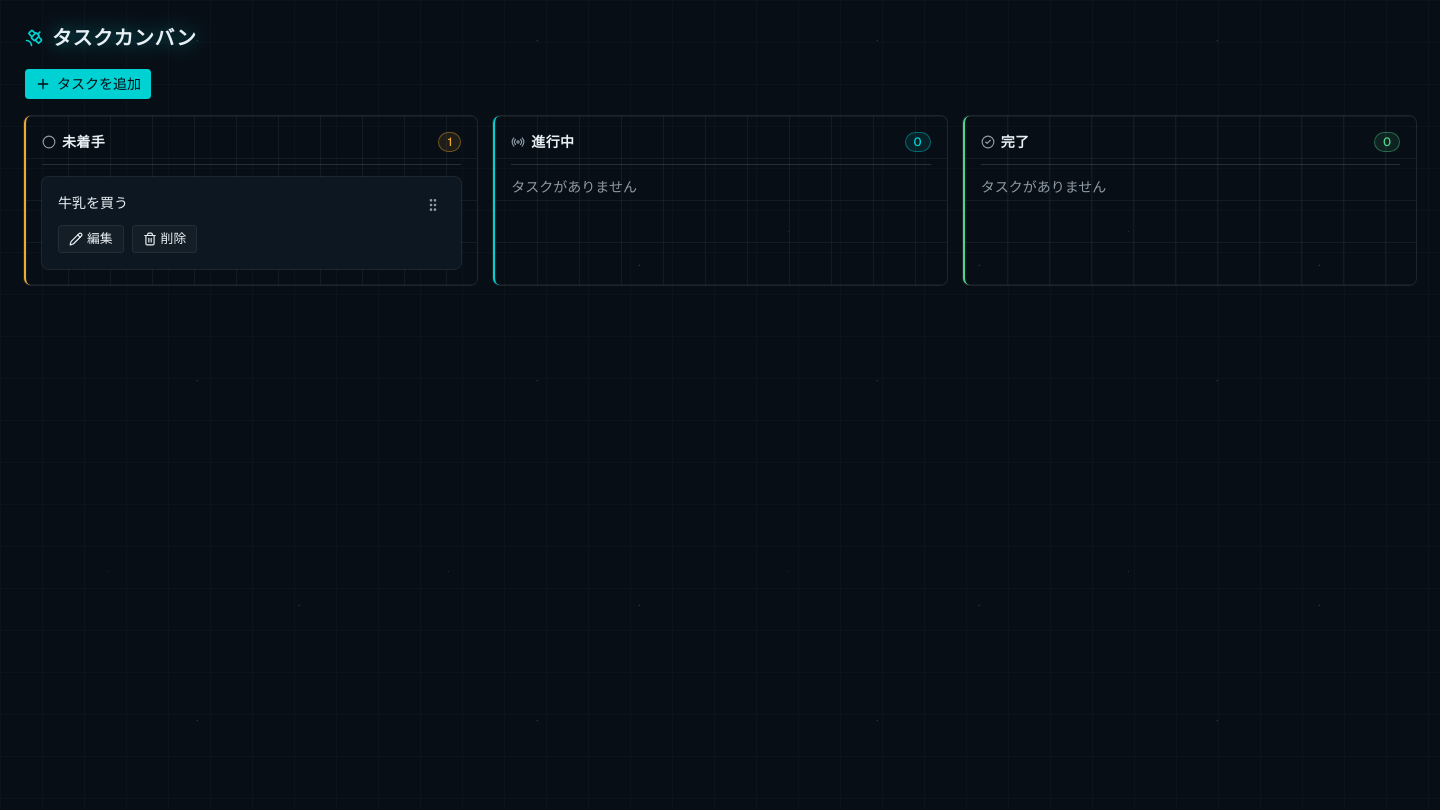
Test: タスクの編集 › 編集内容を保存すると一覧の対象タスクが更新される
The width and height of the screenshot is (1440, 810).
expect the text "牛乳を買う" is shown: met, box [58,193,128,213]
Click the button "編集" at (91, 239), box [58,225,124,253]
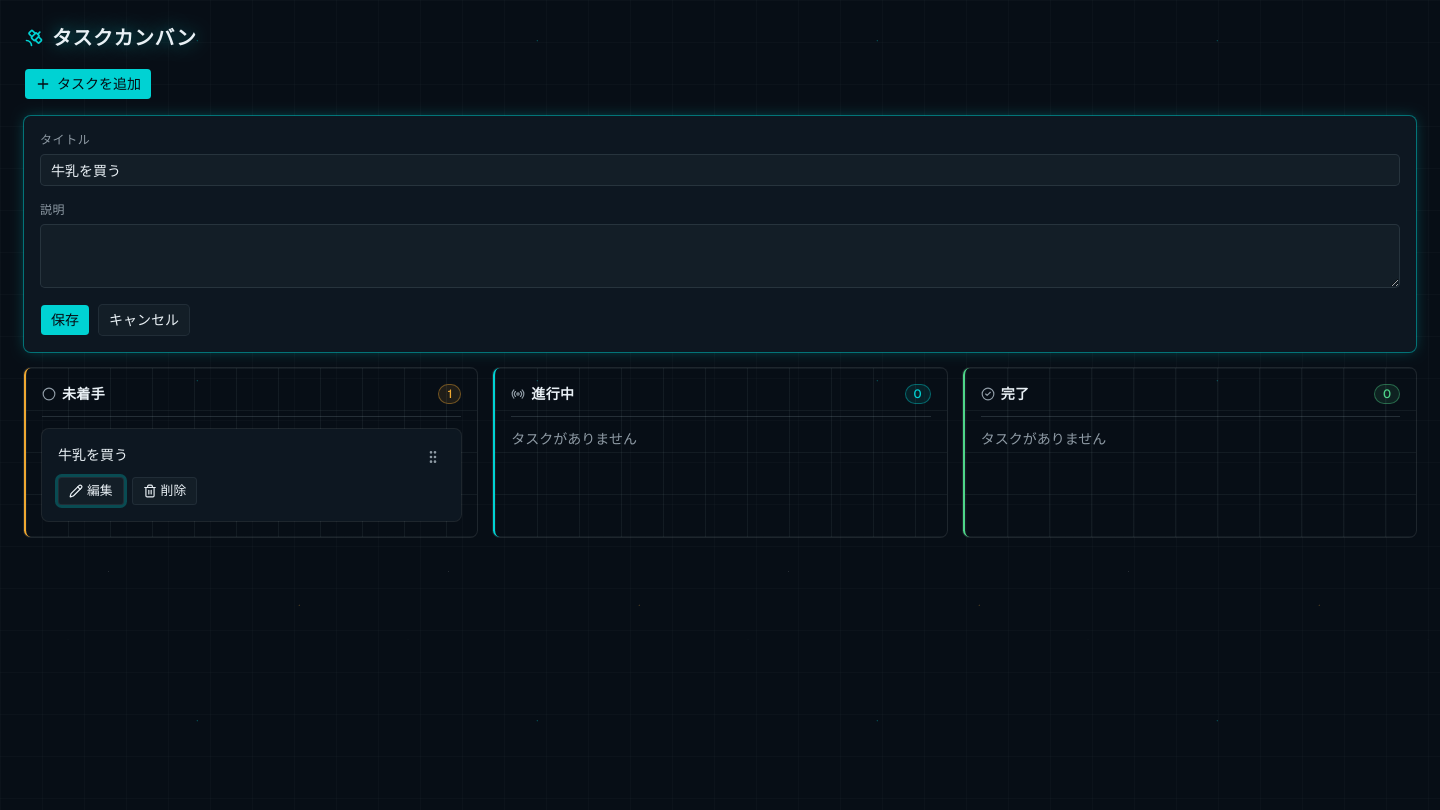
Replace the text in the field labelled "タイトル" with "牛乳とパンを買う" at (720, 170), box [40,154,1400,186]
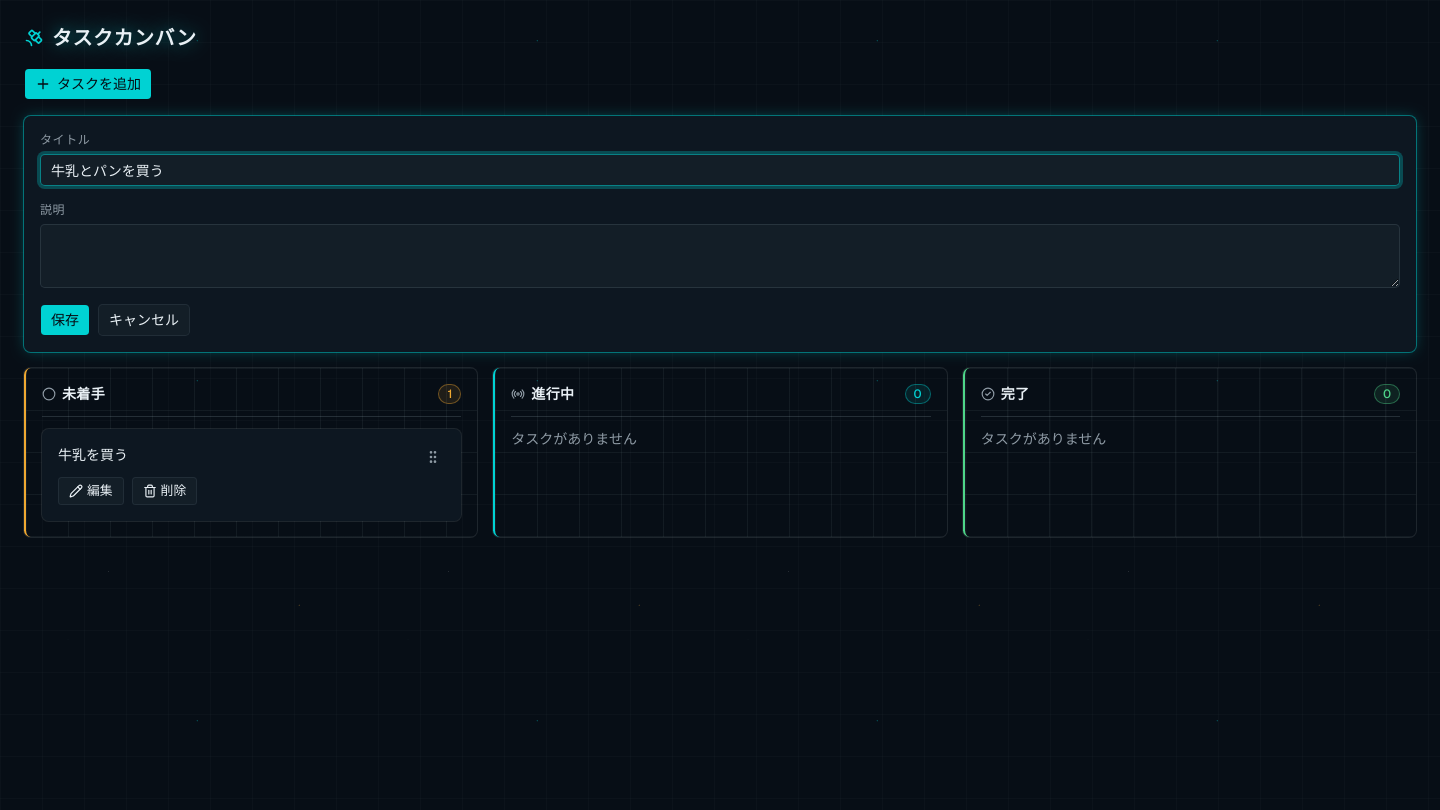
Click the button "保存" at (65, 320), box [40,304,90,336]
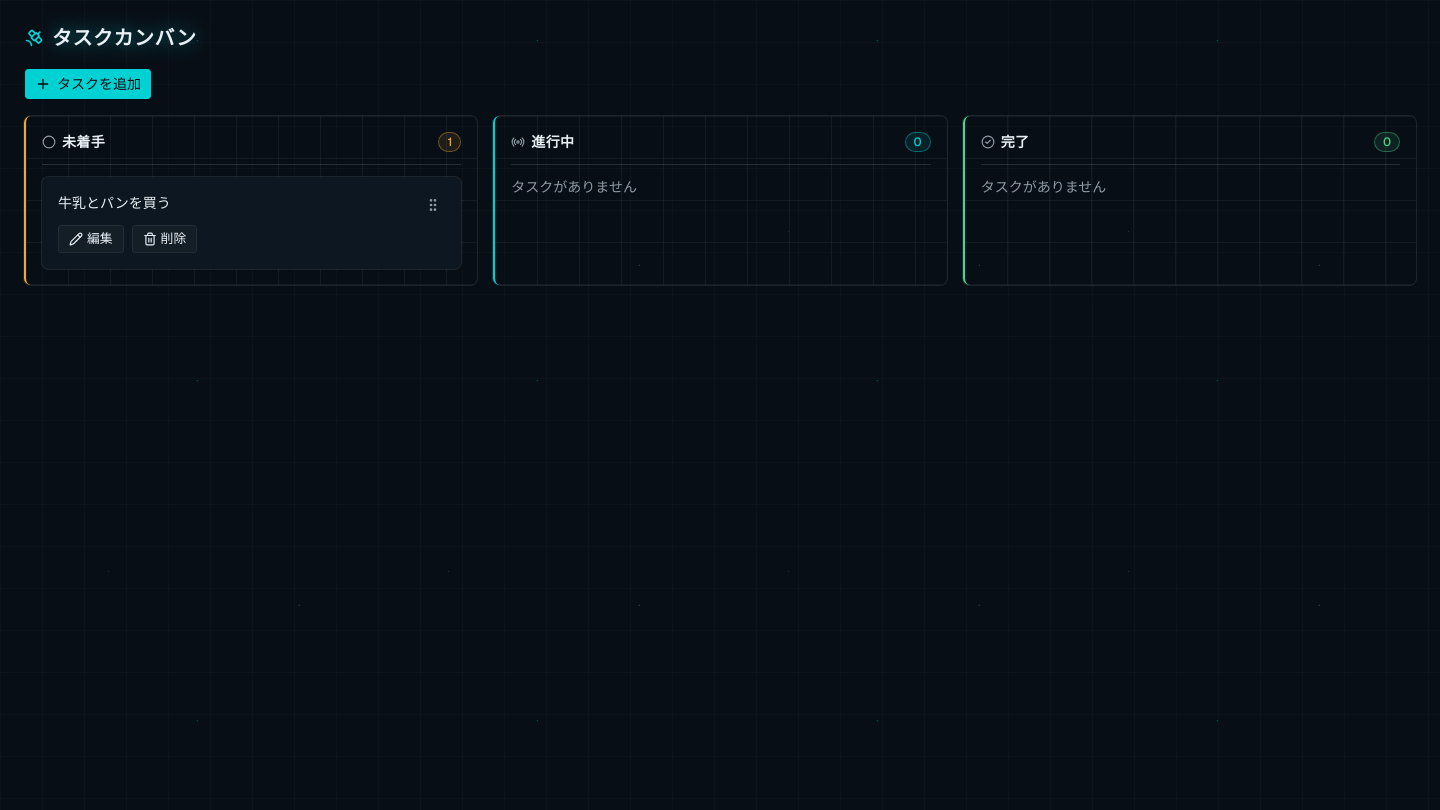
expect the text "牛乳とパンを買う" is shown: met, box [58,193,171,213]
expect the text "牛乳を買う" is gone: met
